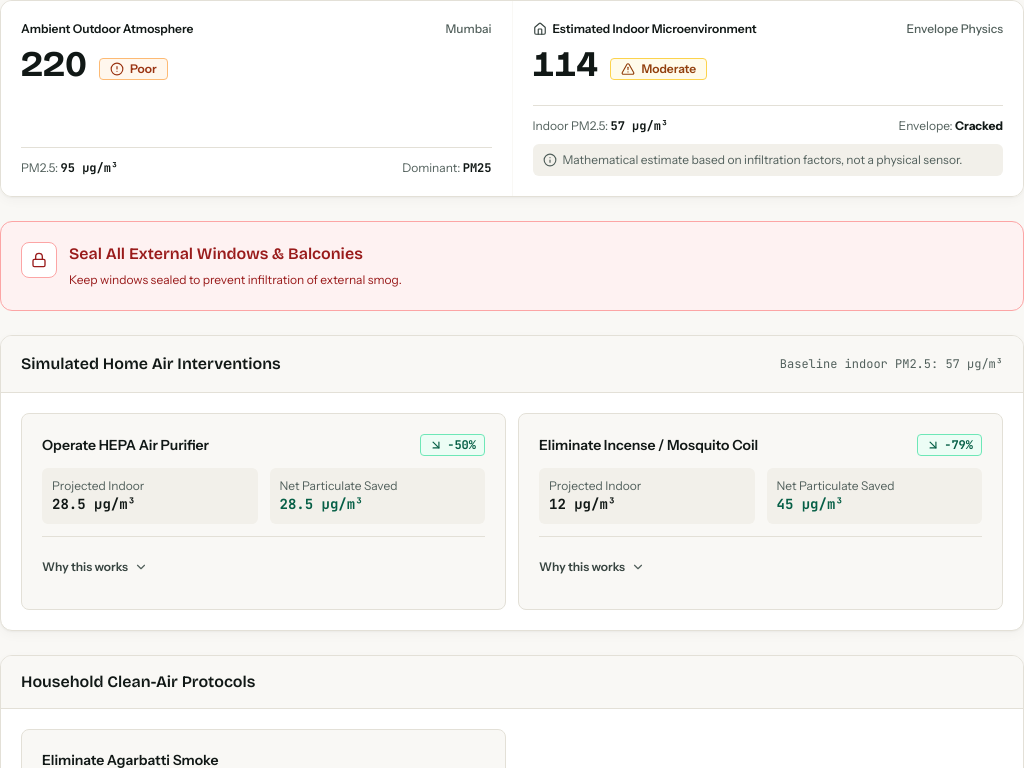
Test: IndoorActionLab Component › renders what-if intervention simulator cards with quantified reductions
Expected: the heading "Simulated Home Air Interventions" is shown, [21,352,281,376]
Expected: the heading "Operate HEPA Air Purifier" is shown, [42,434,209,454]
Click the button "Why this works" below "Operate HEPA Air Purifier": [95, 566] box [42,544,148,588]
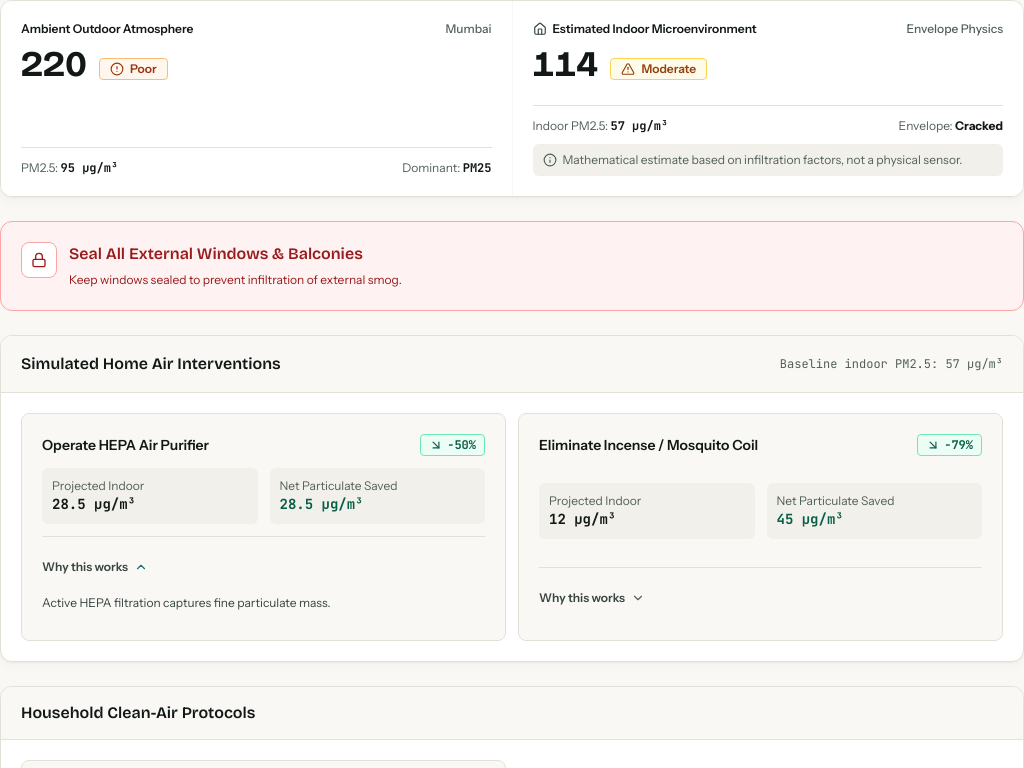
Result: the button "Why this works" below "Operate HEPA Air Purifier" is expanded at [42,544,148,588]
